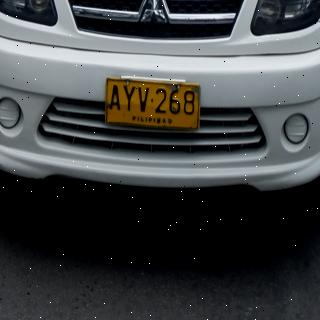license: (106, 79, 200, 129)
